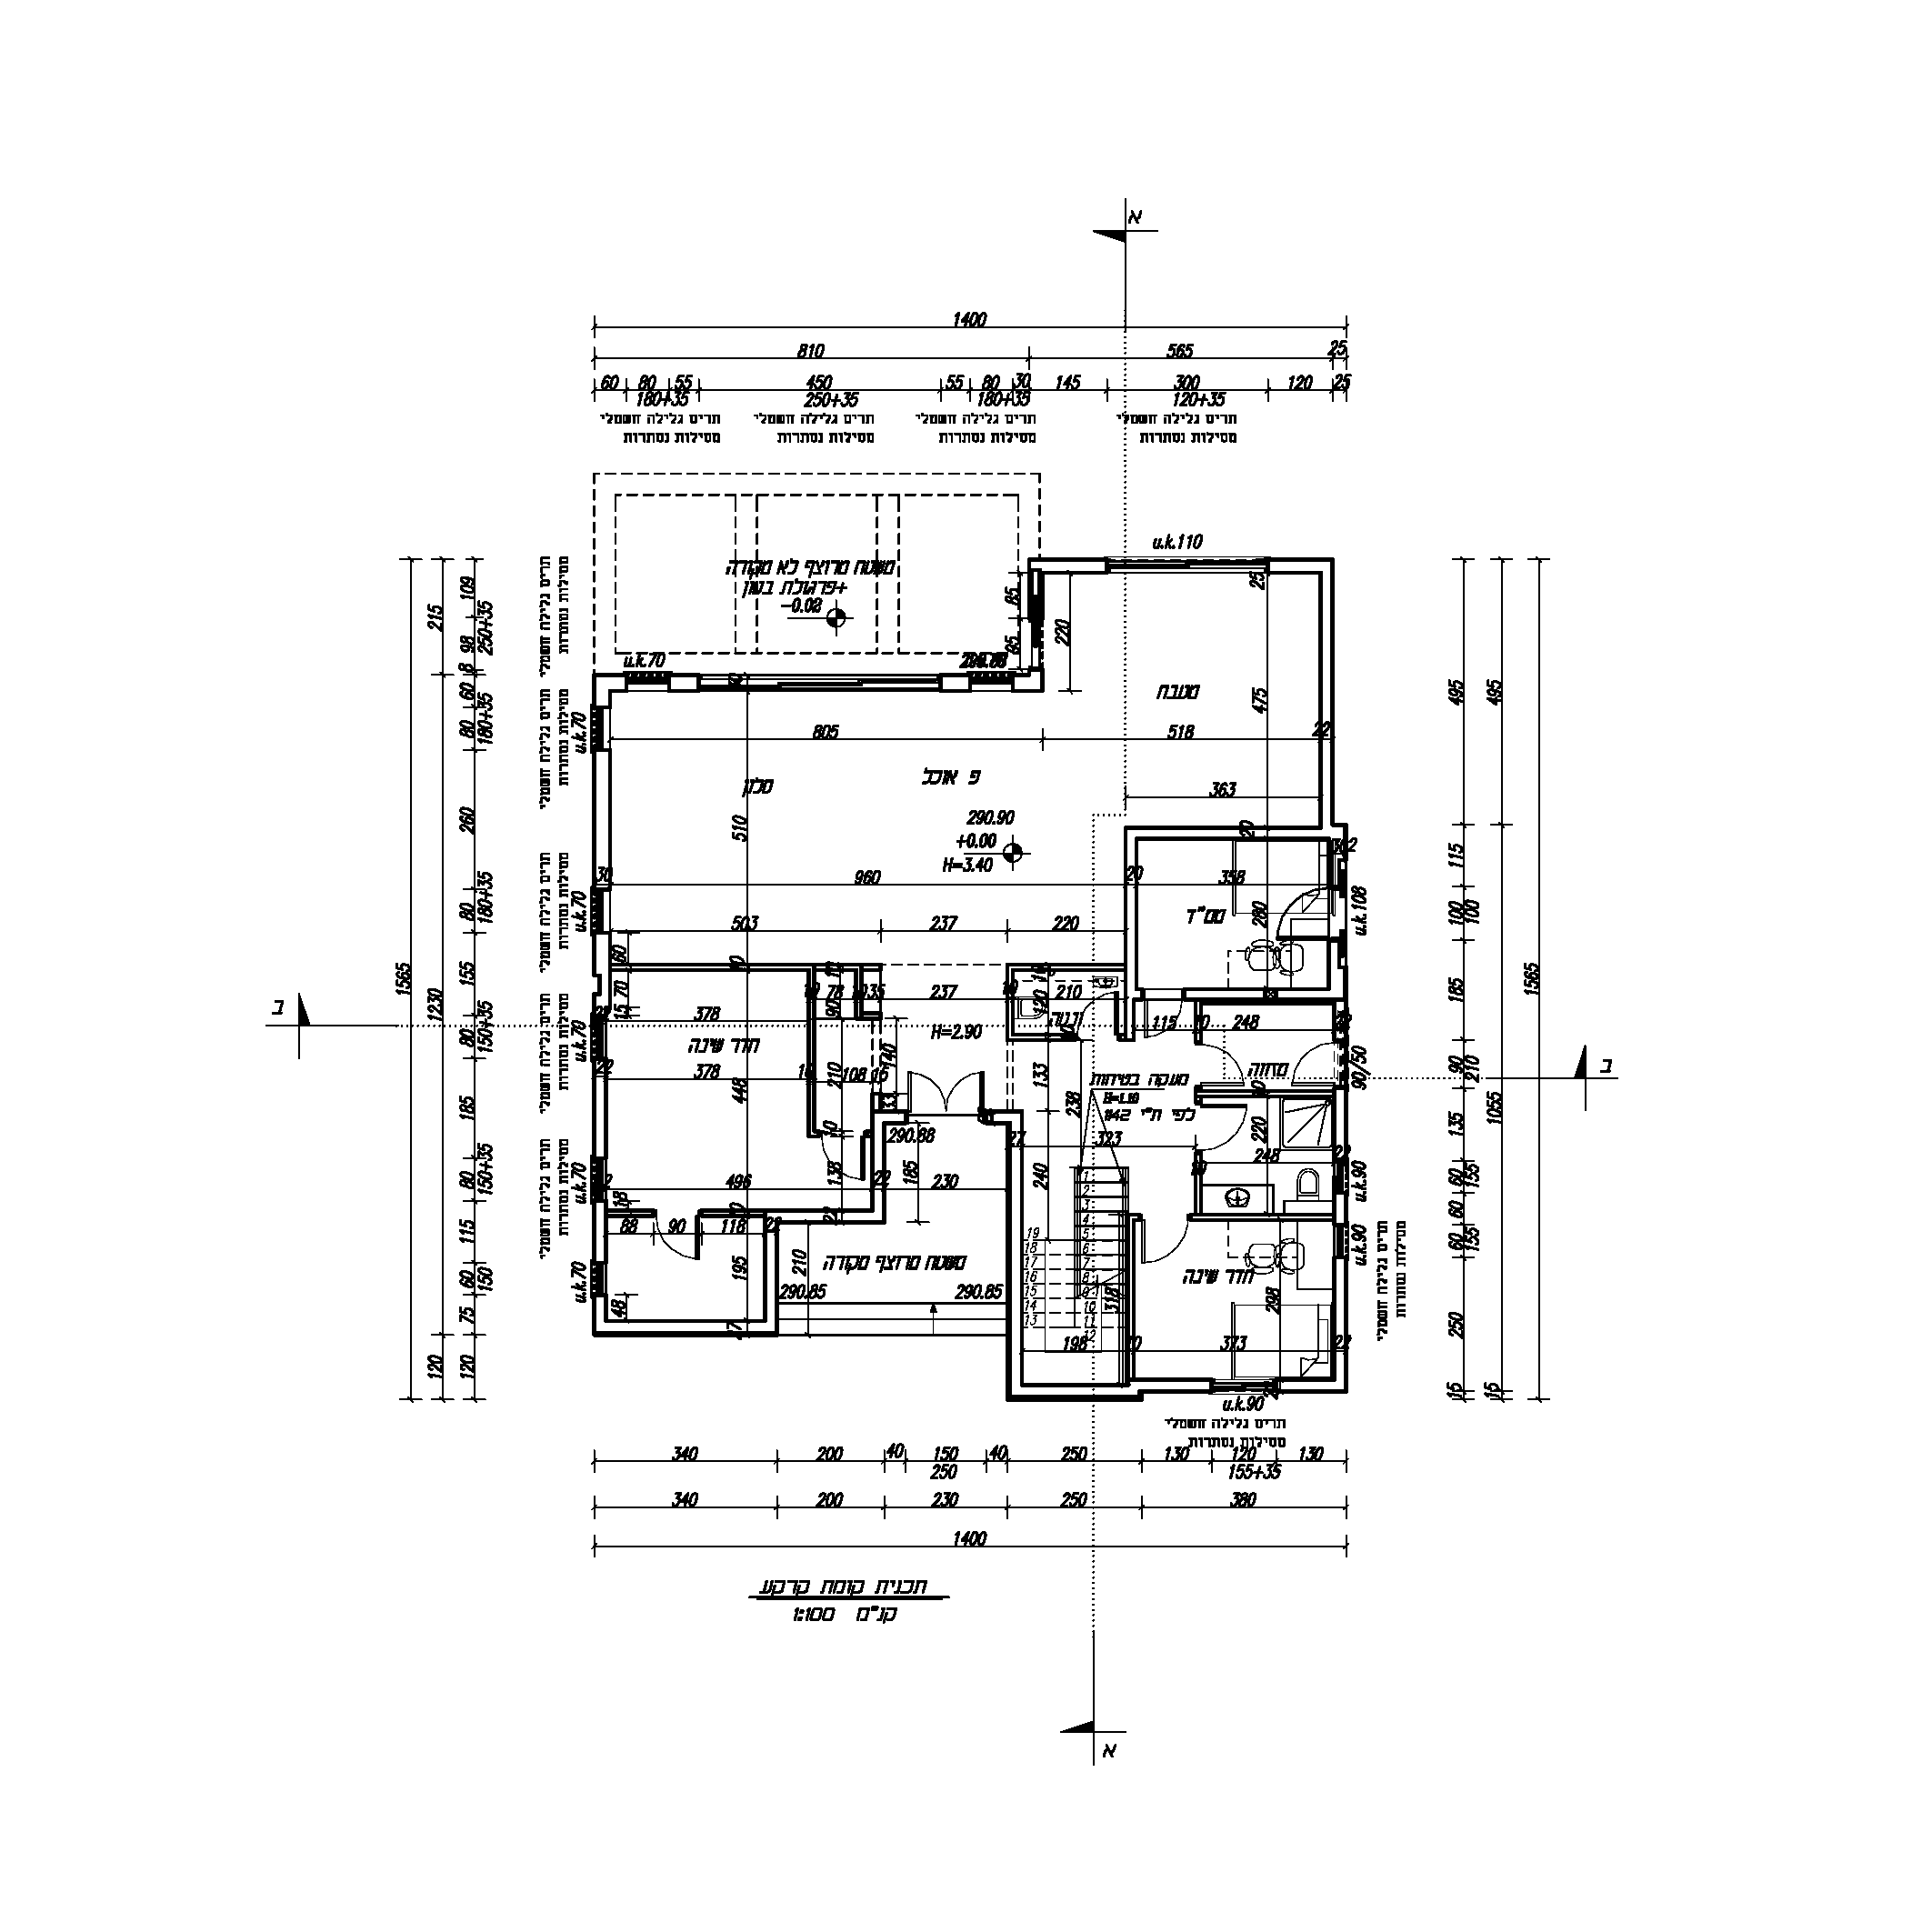door: (1136, 1217, 1192, 1265), (1200, 1104, 1251, 1155), (901, 1067, 943, 1115), (948, 1067, 993, 1109), (658, 1235, 706, 1263)
